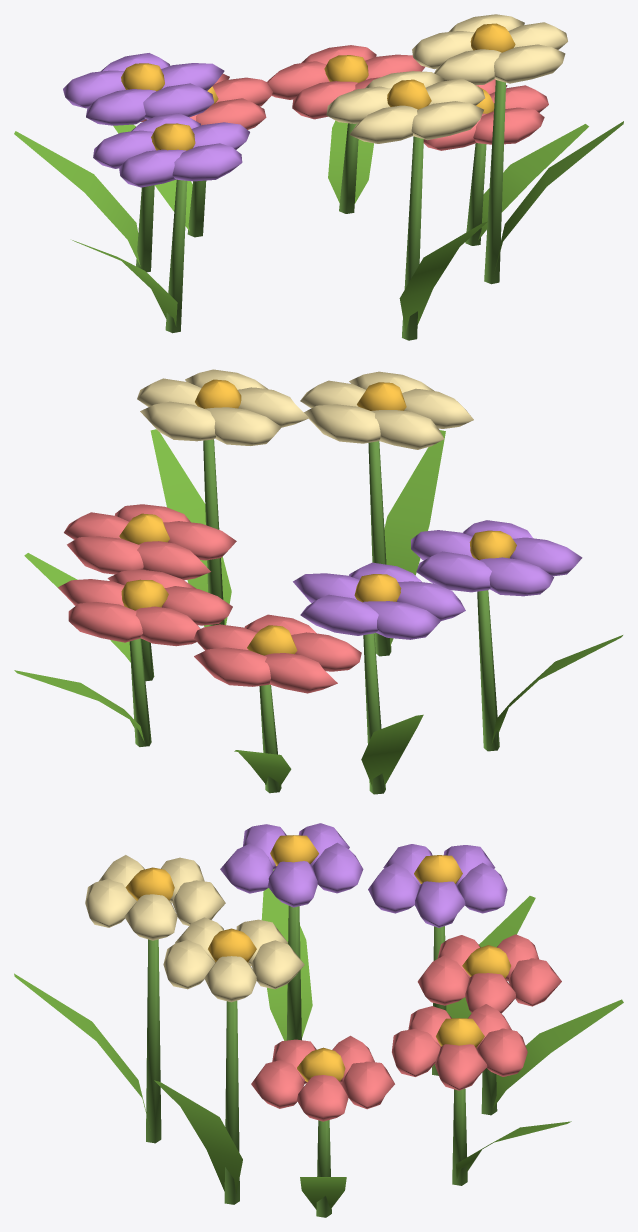
The model's file is WR_Env_Flowers_01.glb.
3 views of the same model, one above another, from view 1: azimuth 30°, elevation 25°; view 2: azimuth 150°, elevation 25°; view 3: azimuth 270°, elevation 25° (orthographic). The views are drawn at different scales.
Parts seen in each view (by area): view 1: WR_Env_Flowers_01_Visual; view 2: WR_Env_Flowers_01_Visual; view 3: WR_Env_Flowers_01_Visual.
Part boxes in pixels (x1,y1,x2,y2): WR_Env_Flowers_01_Visual: [14, 14, 623, 340]; WR_Env_Flowers_01_Visual: [14, 369, 622, 794]; WR_Env_Flowers_01_Visual: [14, 823, 623, 1217].
Bounding box in the file's own units: 0.6159 × 0.2786 × 0.5702.
